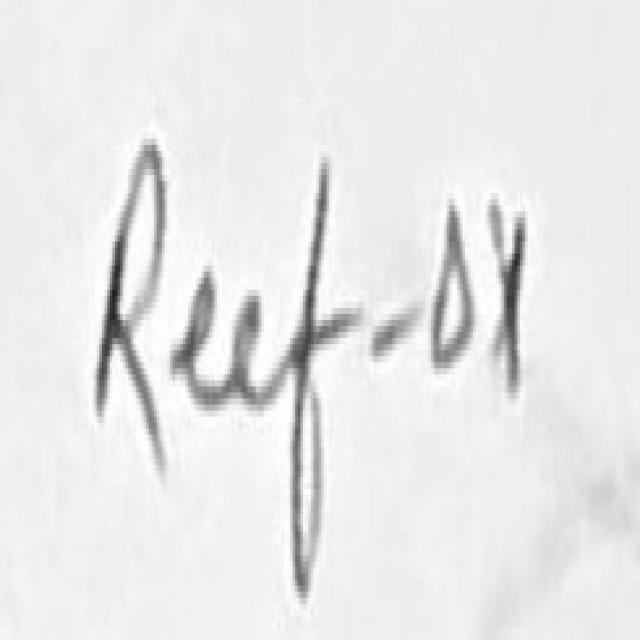D: (434, 205, 475, 368)
R: (97, 145, 165, 471)
X: (491, 199, 528, 389)
e: (172, 272, 227, 405), (232, 296, 287, 405)
f: (293, 163, 360, 598)
